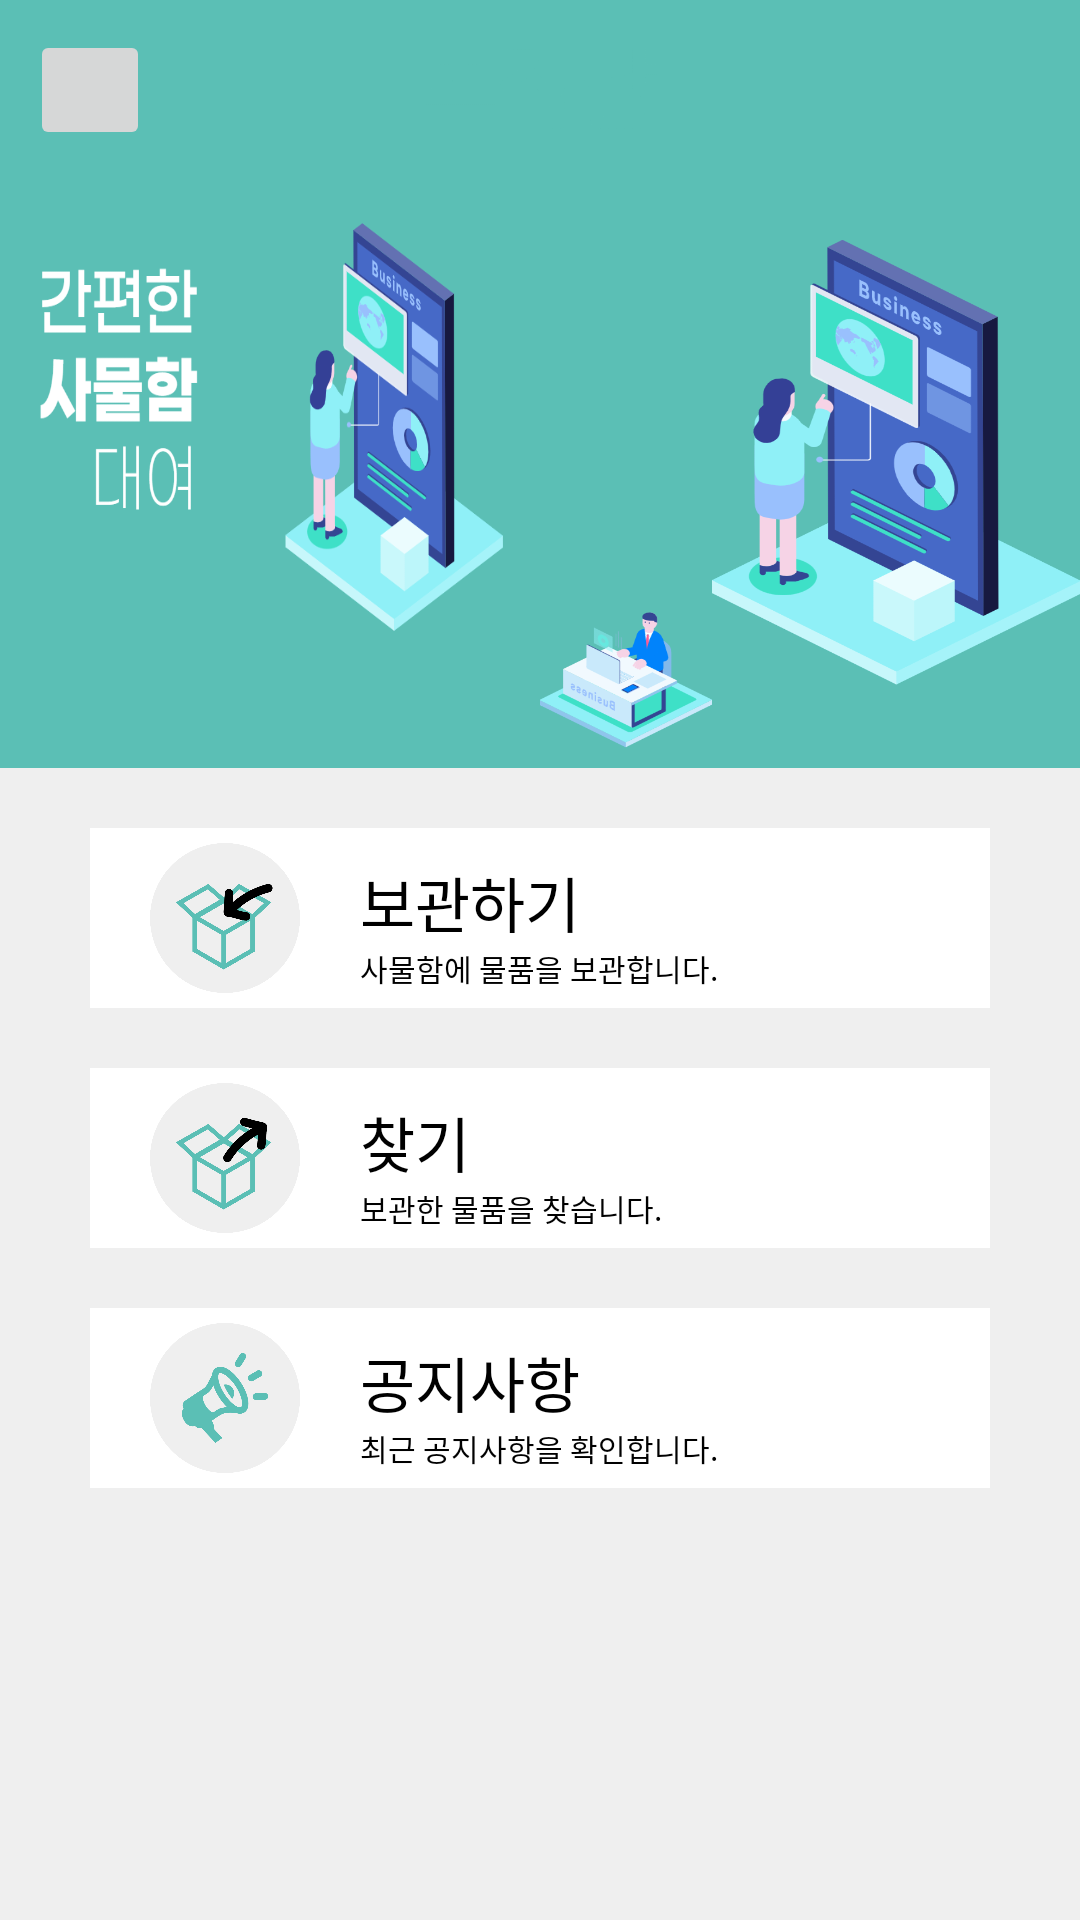

Named icons in this screenshot (1080px×1920px) and their centers, point (x, y):
select notice: point (225, 1398)
select store: point (225, 918)
